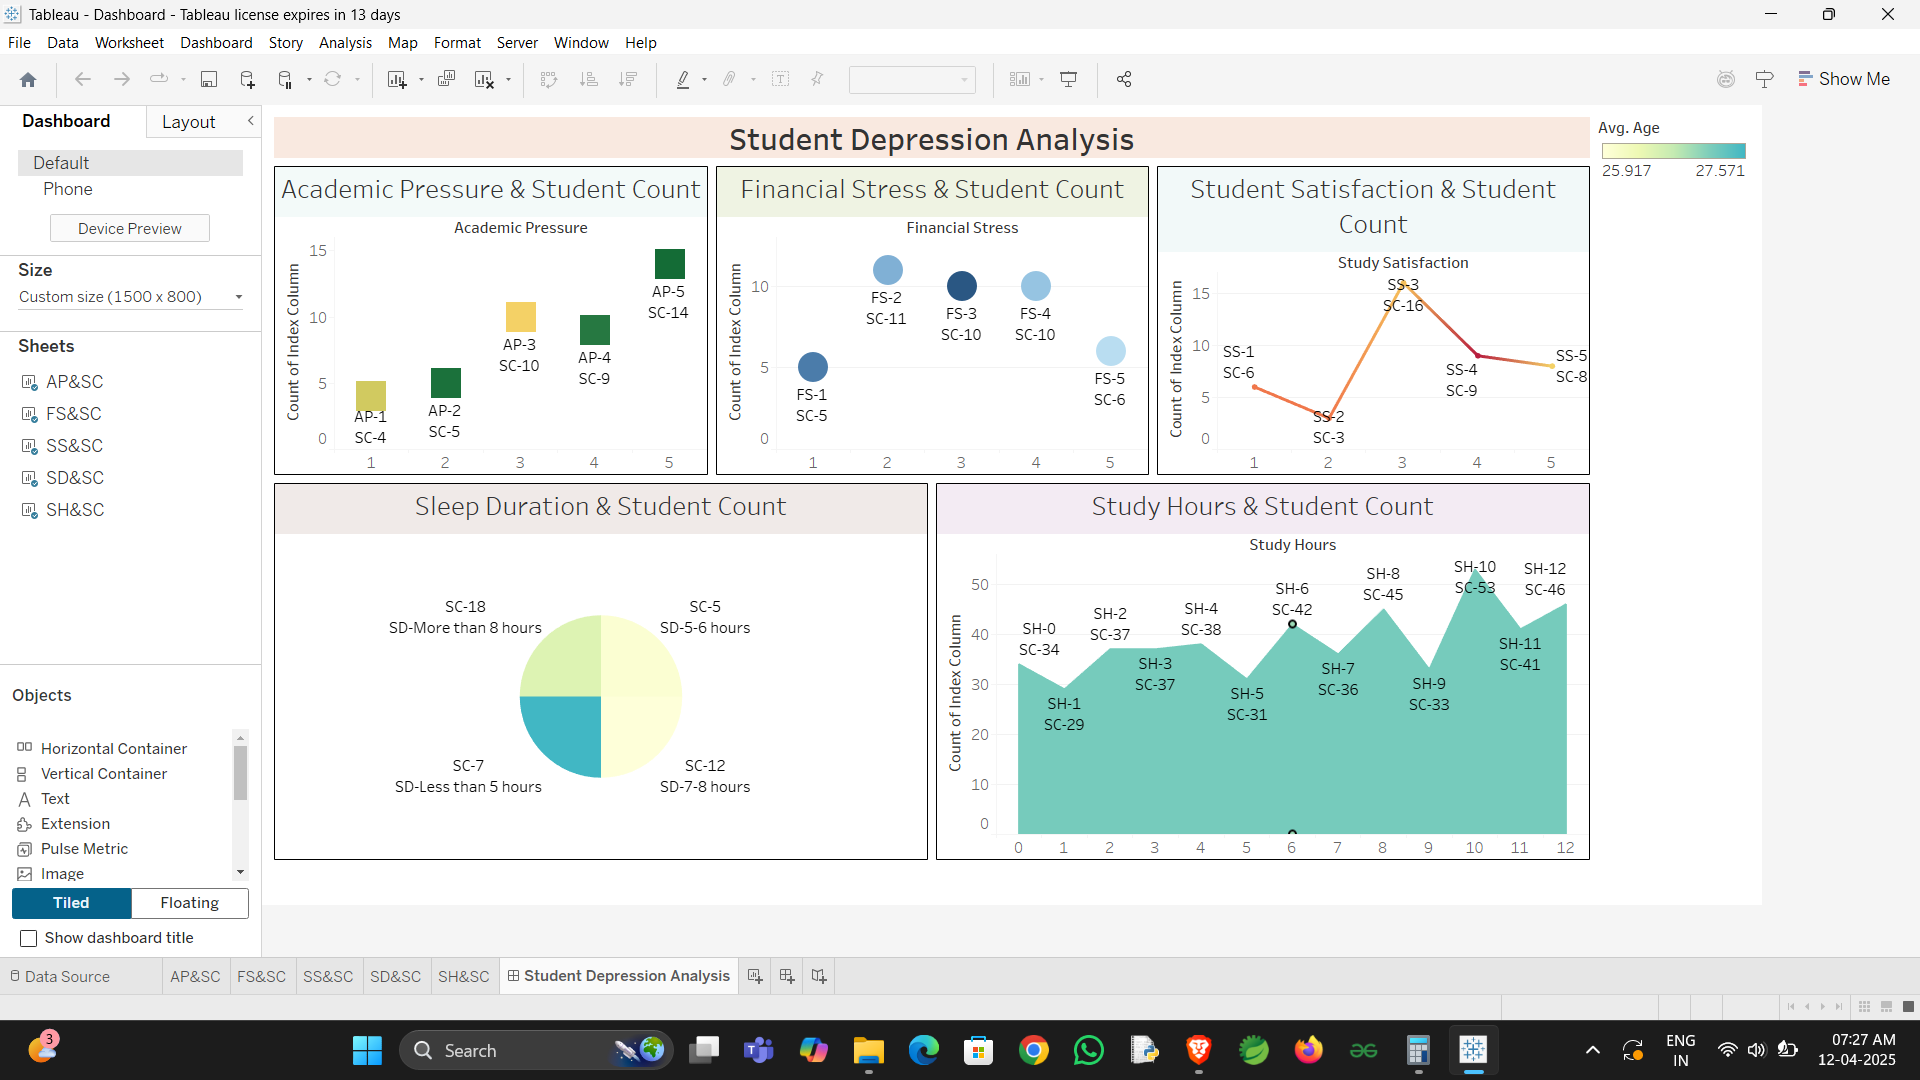

Layout of this report page (visuals, bound fields, positions):
{"tool":"tableau","page":{"name":"Student Depression Analysis","canvas":[1500,800],"ordinal":0},"visuals":[{"type":"title","box":[8,8,1324,49]},{"type":"legend","title":"SD&SC","param":"[federated.0fnur4x1cviapw12rwt011medbpt].[avg:Age:qk]","box":[1332,8,160,73]},{"type":"worksheet","title":"AP&SC","mark":"Square","rows":["Index_Column"],"cols":["Academic_Pressure"],"box":[8,57,442,317]},{"type":"worksheet","title":"FS&SC","mark":"Circle","rows":["Index_Column"],"cols":["Financial_Stress"],"box":[450,57,441,317]},{"type":"worksheet","title":"SS&SC","mark":"Line","rows":["Index_Column"],"cols":["Study_Satisfaction"],"box":[891,57,441,317]},{"type":"worksheet","title":"SD&SC","mark":"Pie","box":[8,374,662,385]},{"type":"worksheet","title":"SH&SC","mark":"Area","rows":["Index_Column"],"cols":["Study_Hours"],"box":[670,374,662,385]}]}

Visuals, with their boxes on the page's 1500x800 design canvas (x1, y1, x2, y2). These are canvas units, not pixel positions in the 1920x1080 screenshot, which may show the page scaled, cropped or inside an application window:
title: bbox=(8, 8, 1332, 57)
"SD&SC" legend: bbox=(1332, 8, 1492, 81)
"AP&SC" worksheet (Square marks): bbox=(8, 57, 450, 374)
"FS&SC" worksheet (Circle marks): bbox=(450, 57, 891, 374)
"SS&SC" worksheet (Line marks): bbox=(891, 57, 1332, 374)
"SD&SC" worksheet (Pie marks): bbox=(8, 374, 670, 759)
"SH&SC" worksheet (Area marks): bbox=(670, 374, 1332, 759)
